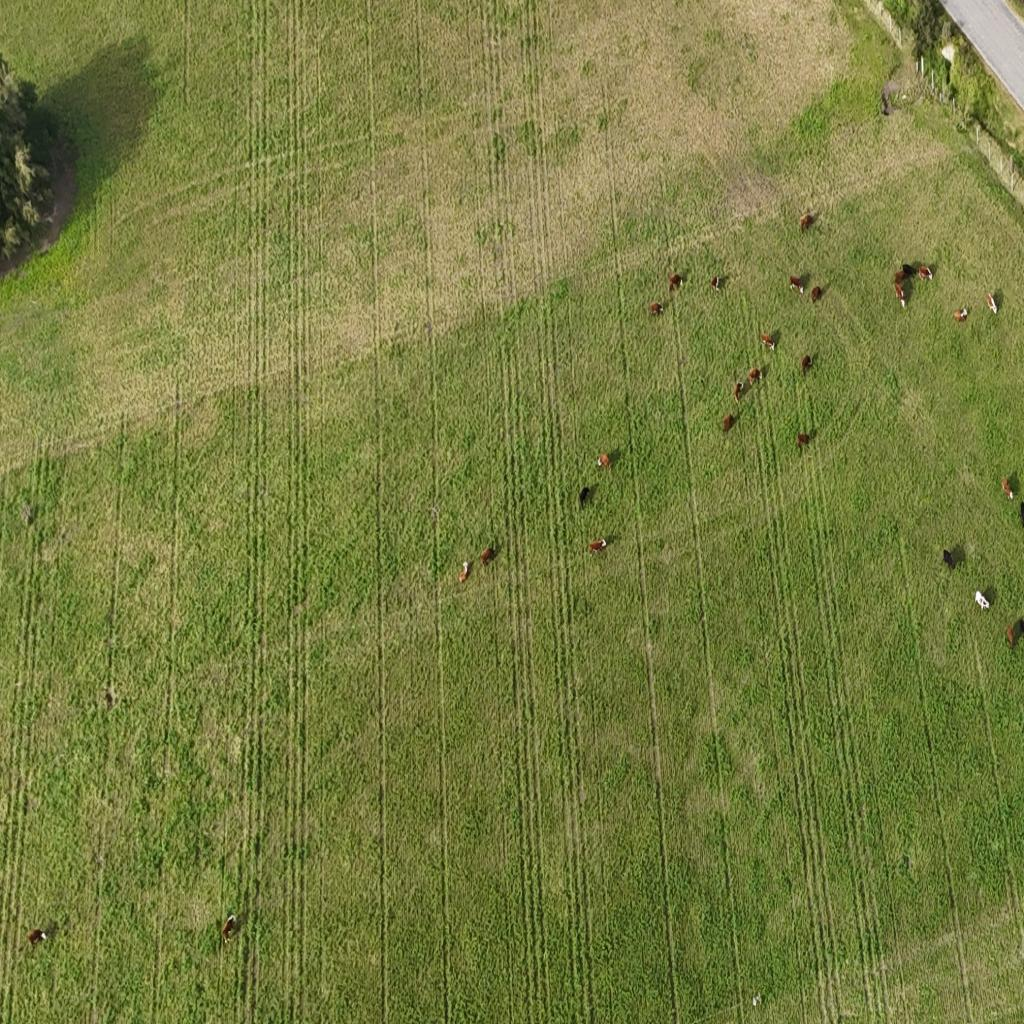cow: (224, 912, 240, 944), (27, 927, 48, 949), (974, 590, 990, 614), (789, 275, 805, 295), (710, 274, 726, 294), (761, 333, 775, 355), (902, 261, 918, 280), (799, 212, 814, 232), (480, 546, 494, 567), (589, 538, 606, 555), (1004, 624, 1016, 648), (986, 292, 998, 316), (578, 484, 590, 508), (796, 430, 811, 448), (598, 452, 611, 472), (1002, 477, 1014, 498), (801, 354, 812, 376), (734, 380, 744, 404), (668, 273, 681, 291), (722, 414, 735, 432), (650, 301, 664, 317), (954, 307, 968, 322), (943, 549, 954, 568), (891, 270, 907, 283), (749, 368, 762, 384), (920, 266, 933, 282), (811, 286, 822, 304), (894, 283, 904, 302), (459, 564, 469, 583), (1018, 500, 1024, 529), (1019, 616, 1024, 640)
